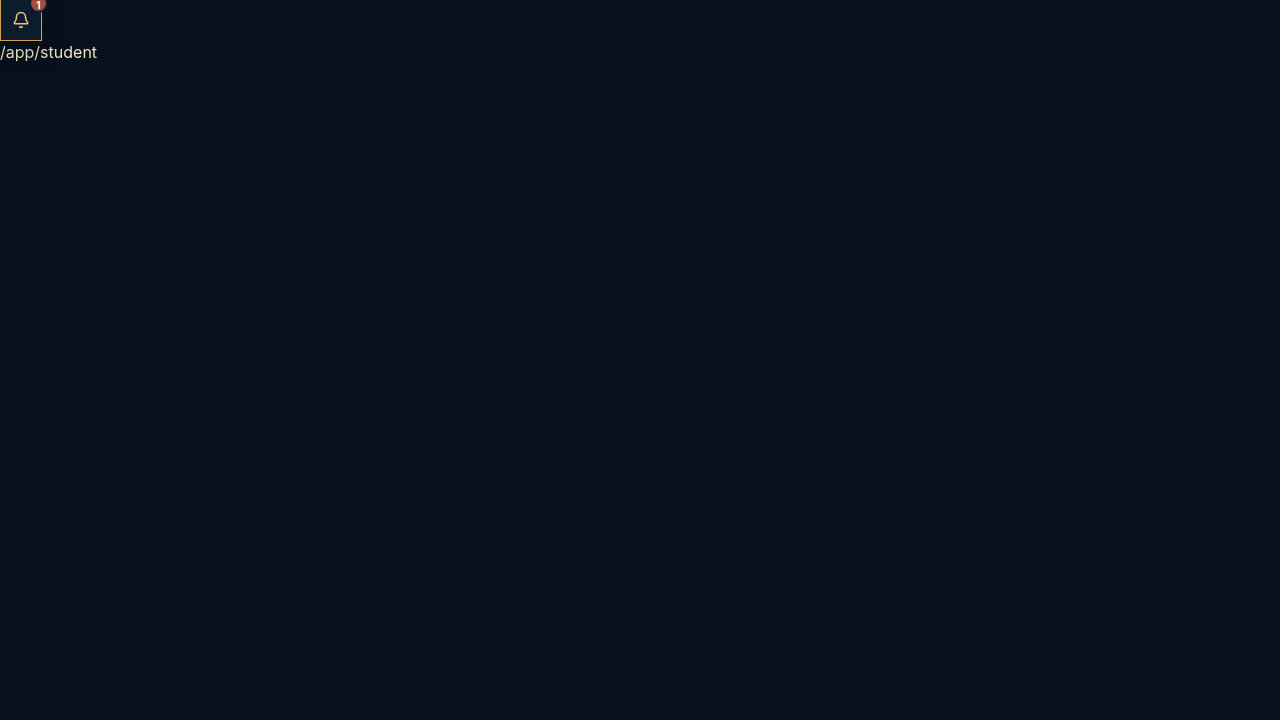
Test case: NotificationCenter › does not read on panel open and reads when navigating from an item
The width and height of the screenshot is (1280, 720).
Click the button named "Open notifications" at (21, 20), box [0, 0, 42, 41]
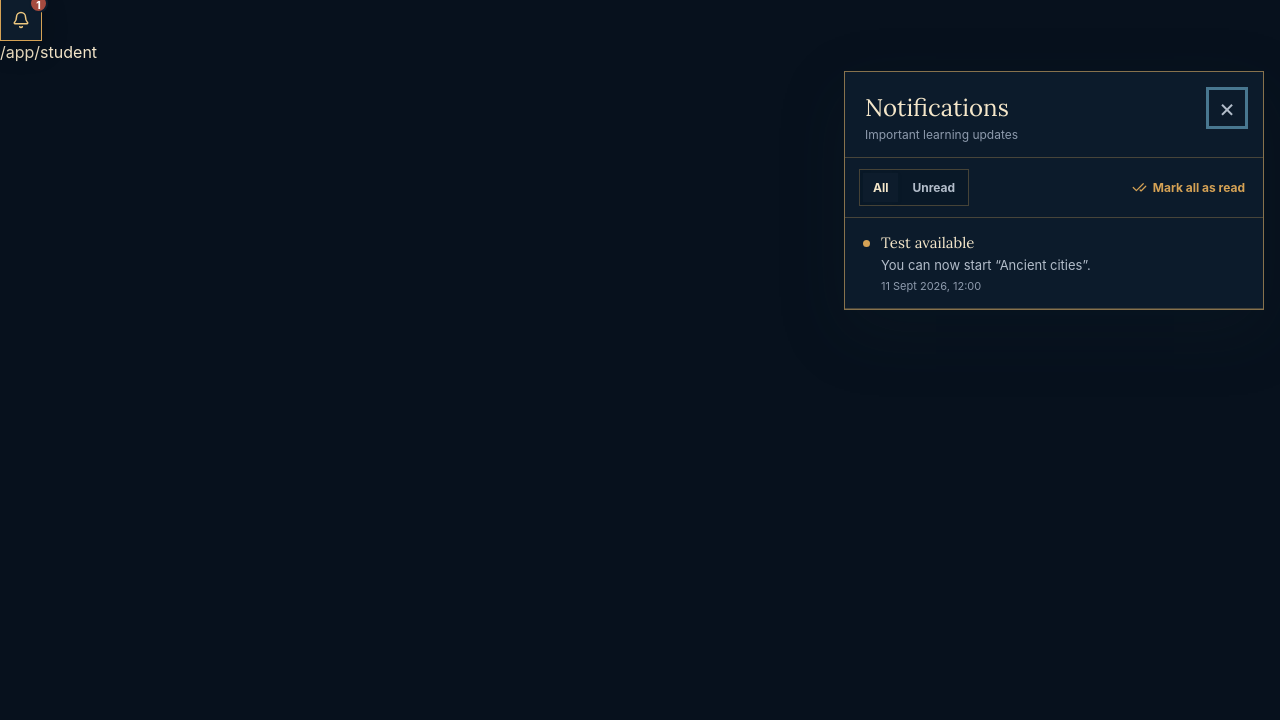
Now the text "Ancient cities" is shown
Click the text "Ancient cities" at (986, 265), box [881, 257, 1091, 273]
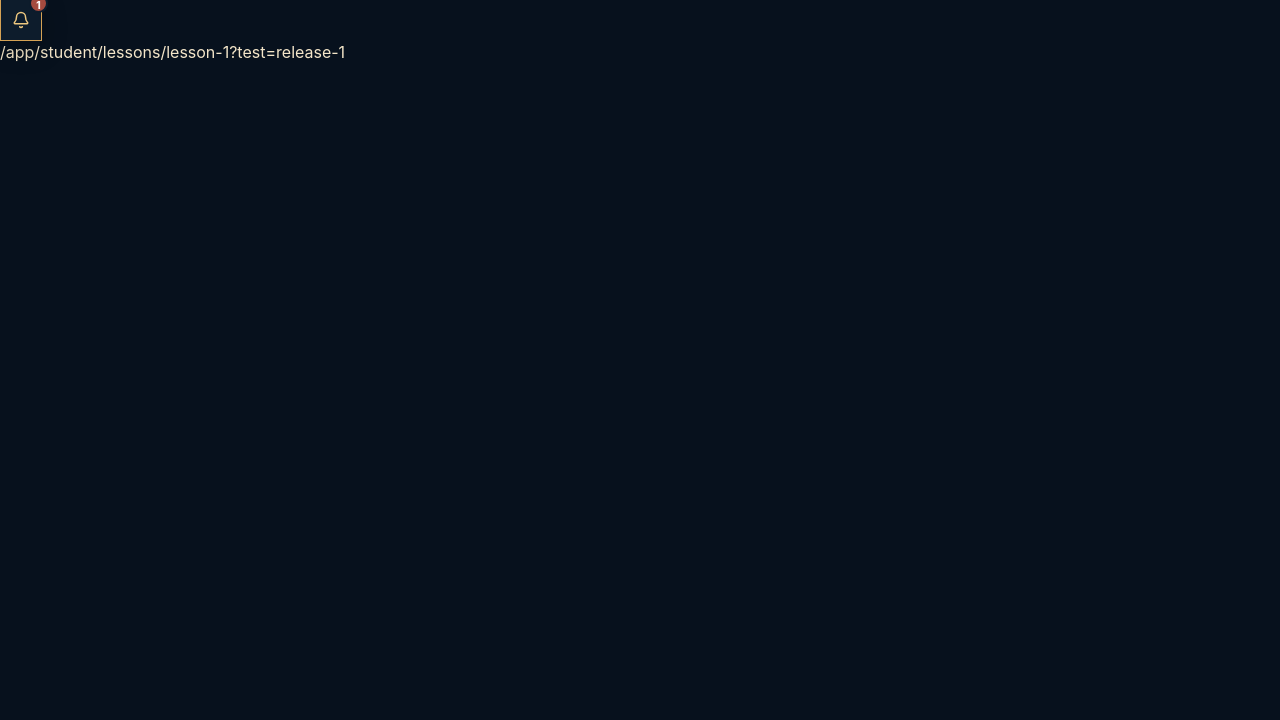
Now the text with test id "location" reads "/app/student/lessons/lesson-1?test=release-1", box [0, 42, 345, 62]
